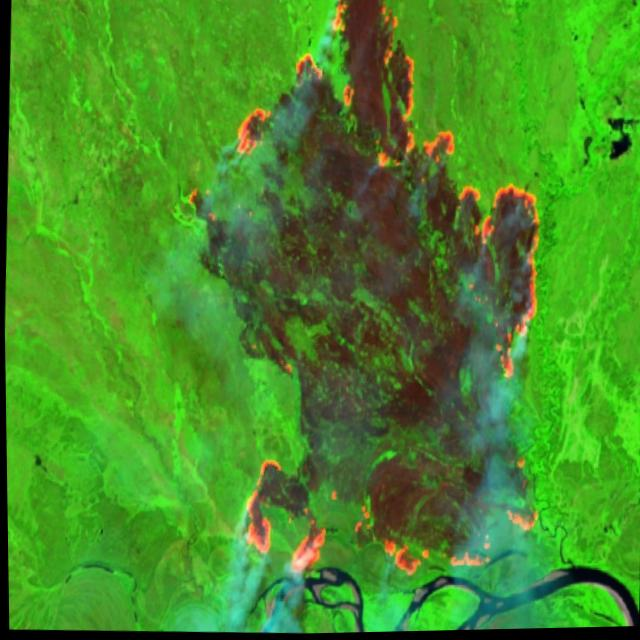fire: (168, 0, 566, 595)
